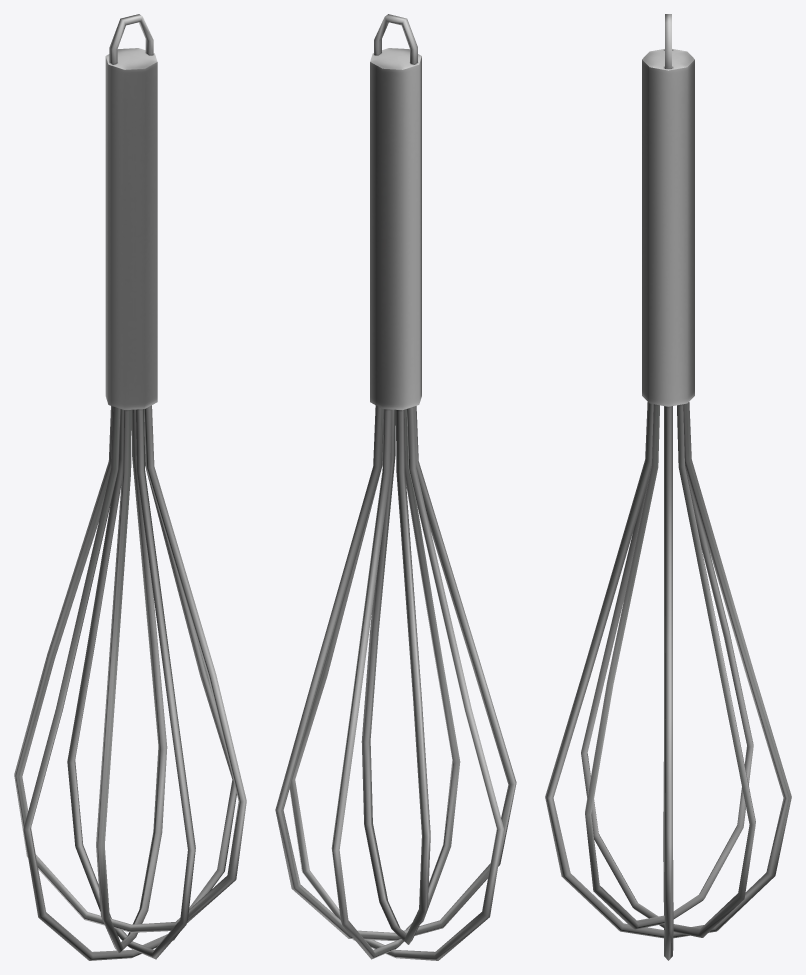
Rendered from KR_Whisk_01_01.fbx.
3 renders of one model, left to right at view 1: azimuth 30°, elevation 25°; view 2: azimuth 150°, elevation 25°; view 3: azimuth 270°, elevation 25°, orthographic.
Visible parts, largest first — view 1: kr_whisk_01_01; view 2: kr_whisk_01_01; view 3: kr_whisk_01_01.
Boxes of the visible parts, x1,y1,x2,y2 form: kr_whisk_01_01: (14, 14, 246, 960); kr_whisk_01_01: (275, 14, 516, 960); kr_whisk_01_01: (545, 14, 791, 960).
Size of the model in its own units: 7.68 by 31.89 by 7.68.
